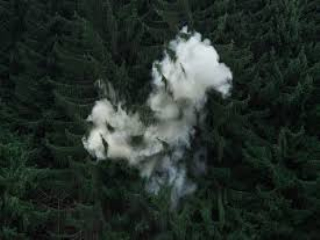smoke: (86, 25, 229, 193)
